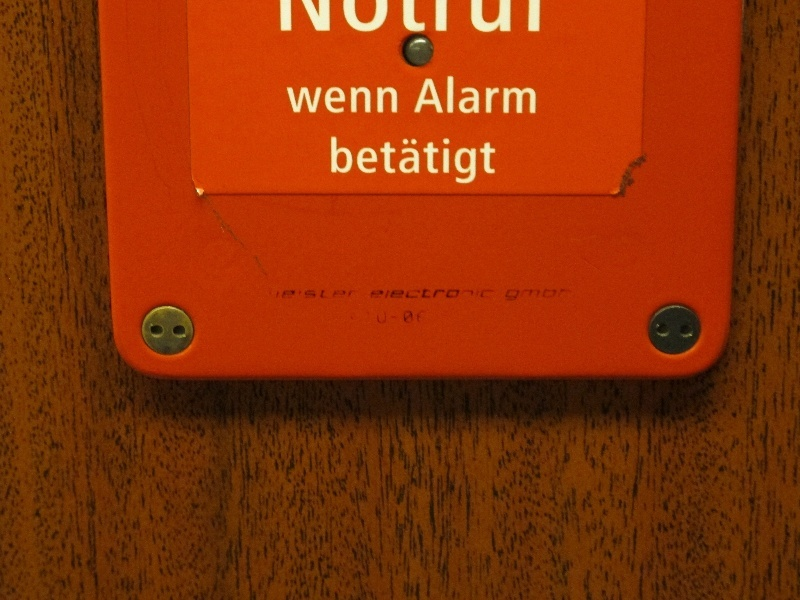text: (481, 136, 497, 188), (337, 136, 352, 188), (353, 136, 368, 188), (369, 136, 384, 188), (385, 136, 400, 188), (401, 136, 416, 188), (417, 136, 432, 188), (433, 136, 448, 188), (449, 136, 464, 188), (465, 136, 480, 188), (433, 73, 448, 117), (449, 73, 464, 117), (465, 73, 480, 117), (481, 73, 496, 117), (497, 73, 512, 117), (513, 73, 528, 117), (289, 1, 304, 37), (305, 1, 320, 37), (321, 1, 336, 37), (337, 1, 352, 37), (353, 1, 368, 37), (369, 1, 384, 37), (385, 1, 400, 37), (401, 1, 416, 37), (417, 1, 432, 37), (433, 1, 448, 37), (449, 1, 464, 37), (465, 1, 480, 37), (481, 1, 496, 37), (497, 1, 512, 37), (513, 1, 528, 37), (420, 73, 432, 117), (529, 1, 543, 37), (289, 86, 304, 116), (305, 86, 320, 116), (321, 86, 336, 116), (337, 86, 352, 116), (353, 86, 368, 116), (369, 86, 384, 116), (385, 86, 399, 116), (329, 136, 336, 188), (529, 73, 537, 117), (280, 1, 288, 37), (385, 310, 400, 325), (401, 310, 416, 325), (513, 288, 528, 302), (529, 288, 544, 302), (545, 288, 560, 302), (385, 288, 400, 301), (401, 288, 416, 301), (417, 288, 432, 301), (433, 288, 448, 301), (449, 288, 464, 301), (465, 288, 480, 301), (370, 288, 384, 301), (481, 288, 494, 301), (289, 289, 304, 300), (305, 289, 320, 300), (321, 289, 336, 300), (337, 289, 352, 300), (277, 289, 288, 300), (417, 310, 425, 325), (377, 310, 384, 325), (506, 288, 512, 302), (561, 288, 567, 302), (286, 86, 288, 116), (353, 289, 356, 300)
